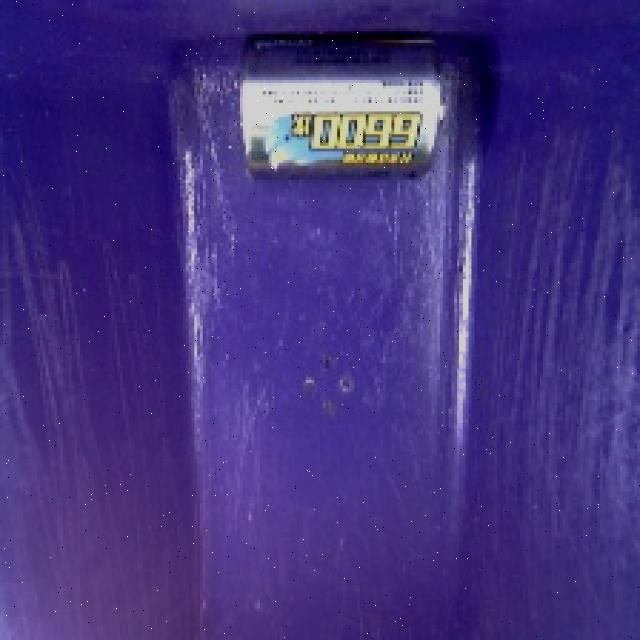battery: (231, 22, 468, 190)
